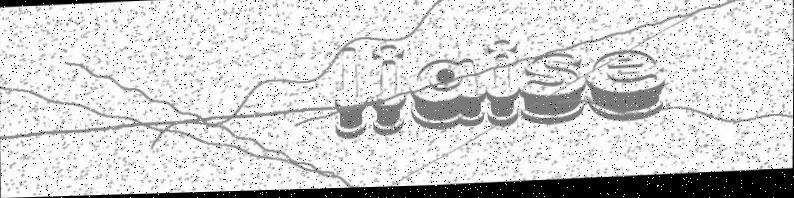a: (410, 60, 486, 132)
e: (585, 52, 665, 126)
i: (369, 46, 408, 138), (484, 41, 522, 130)
l: (333, 48, 369, 141)
s: (519, 55, 585, 129)
